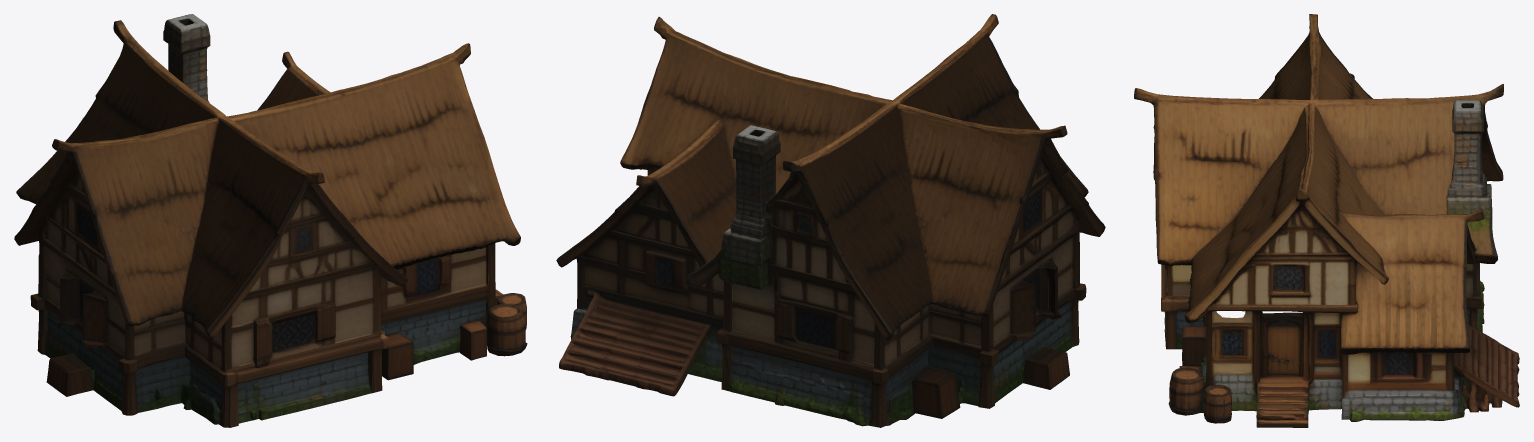
The model's file is casa_comun.glb.
3 renders of one model, left to right at view 1: azimuth 30°, elevation 25°; view 2: azimuth 150°, elevation 25°; view 3: azimuth 270°, elevation 25°, orthographic. The views are drawn at different scales.
Visible parts, largest first — view 1: world; view 2: world; view 3: world.
Part boxes in pixels (bbox=[...]): world: bbox=[14, 14, 527, 427]; world: bbox=[556, 14, 1105, 427]; world: bbox=[1134, 14, 1519, 427].
Size of the model in its own units: 0.99 by 0.5678 by 0.8572.
1 material, 1 textured.
